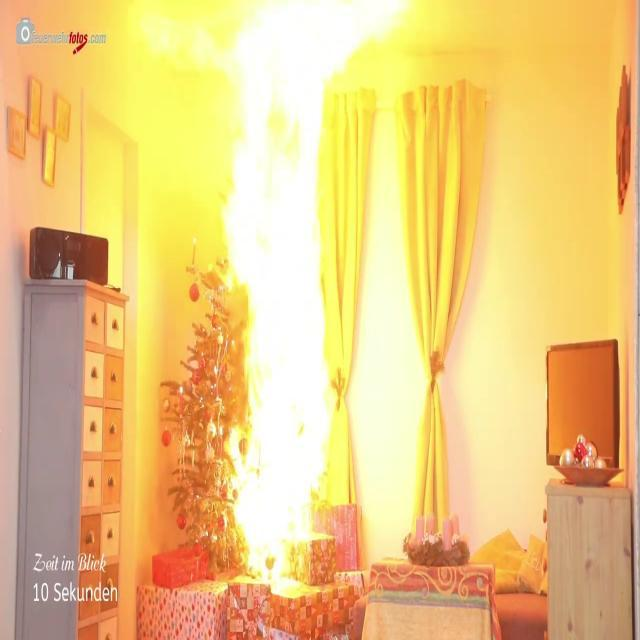Fire: (212, 4, 344, 576)
